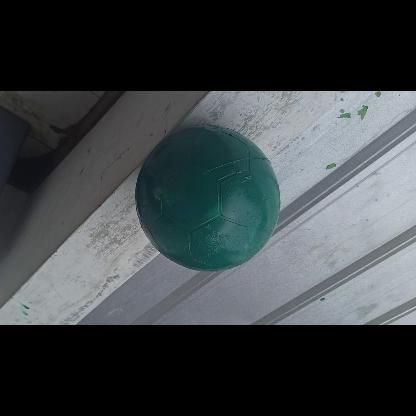green_ball: (136, 124, 284, 270)
